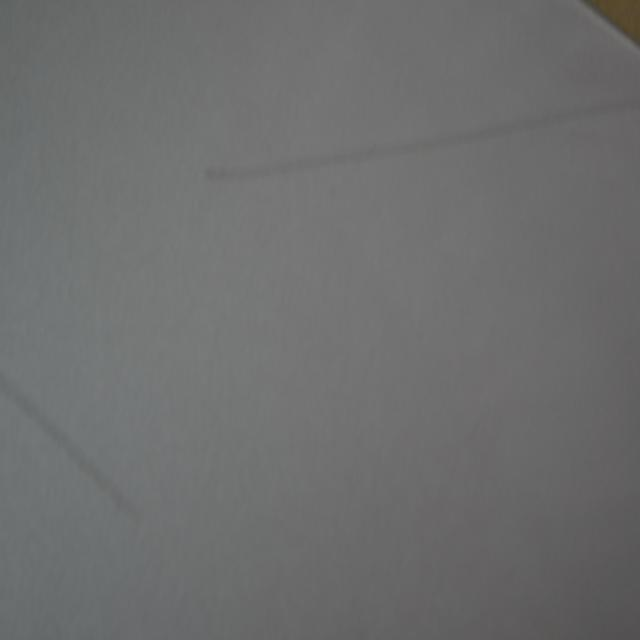scratch: (202, 91, 640, 190), (0, 359, 140, 528)
